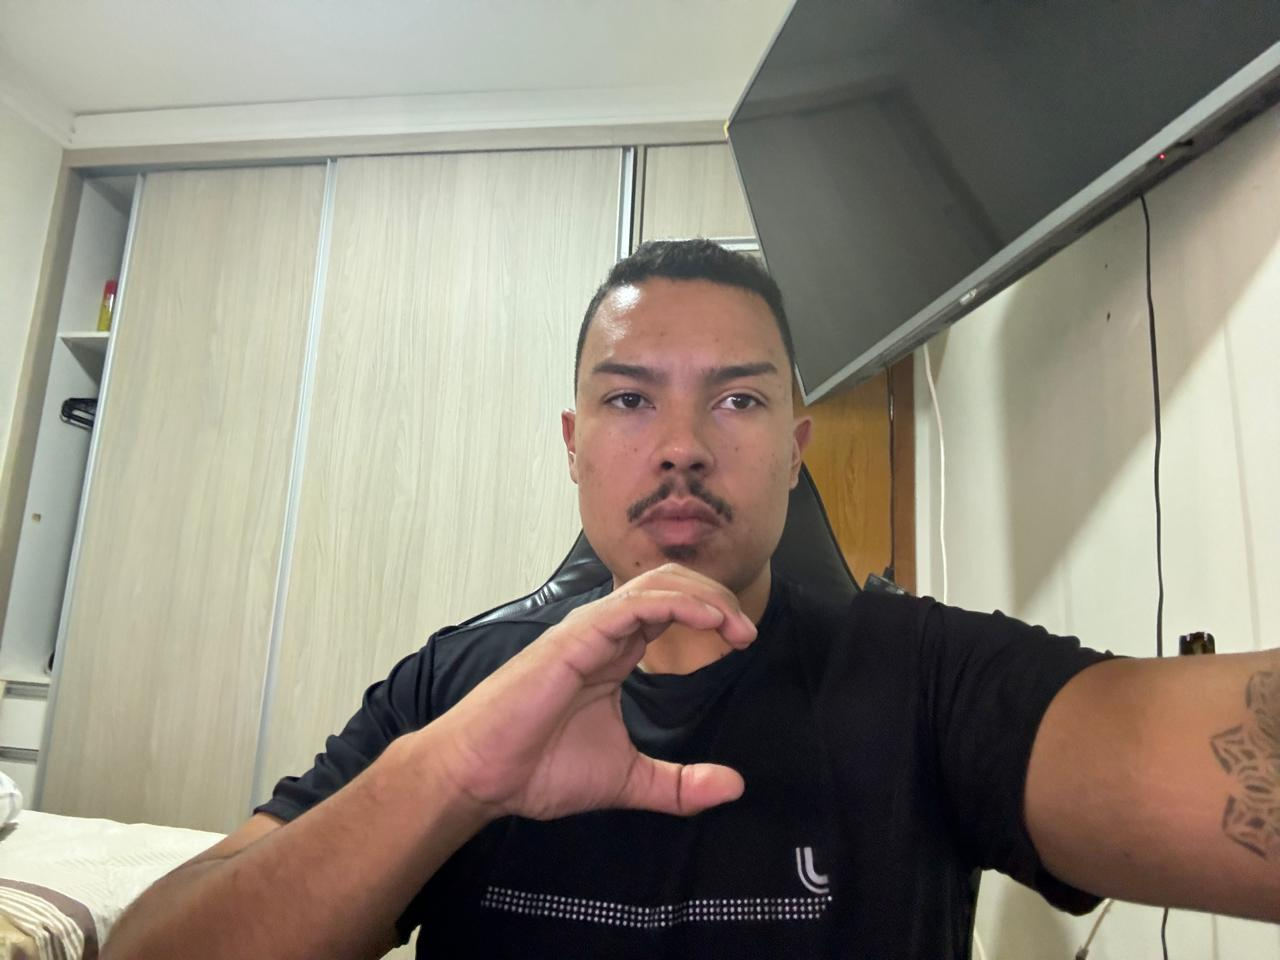c: (421, 546, 762, 826)
